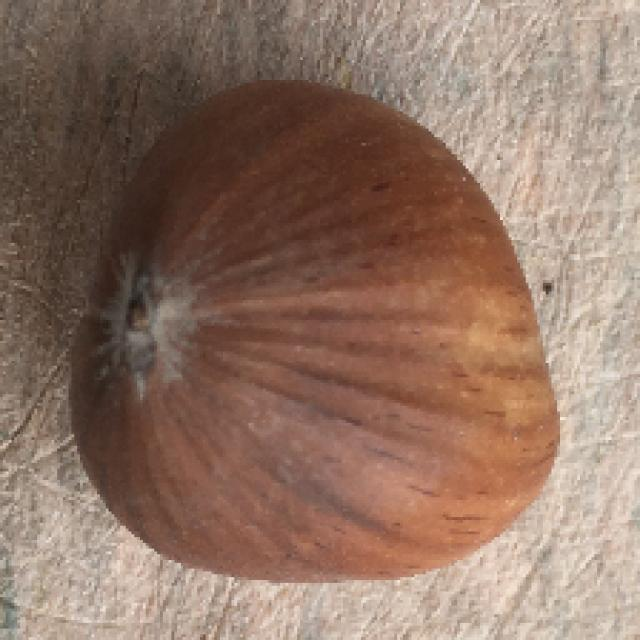DamagedHazelnut: (74, 80, 566, 584)
